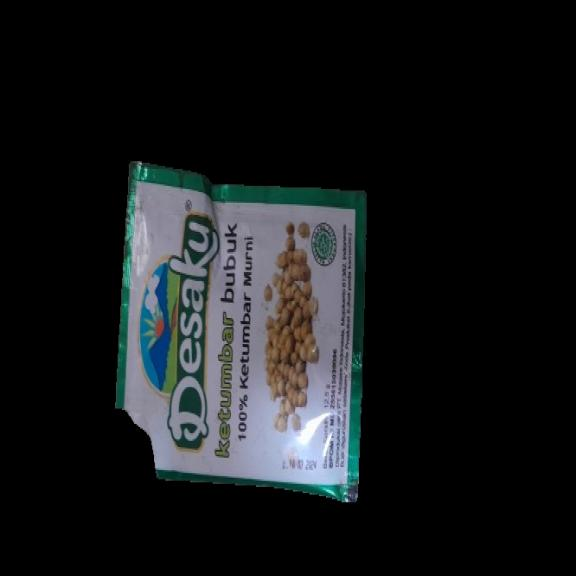Plastik: (112, 150, 370, 511)
